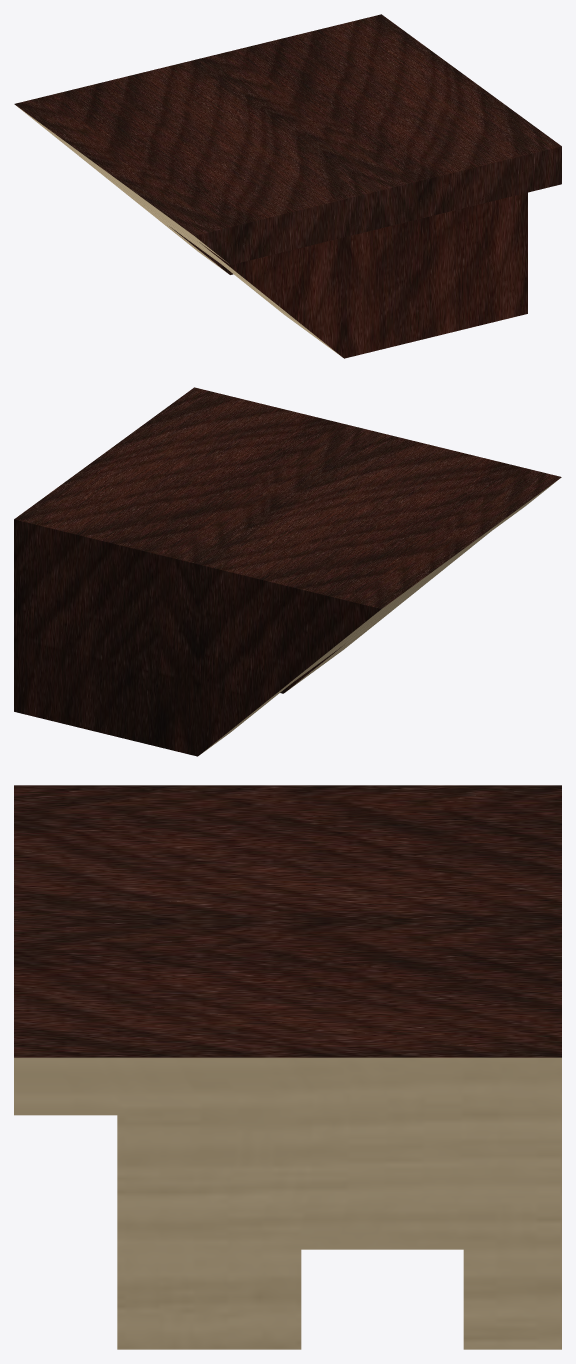
3 renders of one model, top to bottom at view 1: azimuth 30°, elevation 25°; view 2: azimuth 150°, elevation 25°; view 3: azimuth 270°, elevation 25°, orthographic. The views are drawn at different scales.
Parts seen in each view (by area): view 1: middle, first; view 2: middle, first; view 3: middle, first.
Boxes of the visible parts, x1=… form: middle: x1=198, y1=14, x2=561, y2=358; first: x1=14, y1=59, x2=378, y2=358; middle: x1=14, y1=387, x2=377, y2=756; first: x1=197, y1=432, x2=561, y2=756; middle: x1=14, y1=921, x2=561, y2=1349; first: x1=14, y1=785, x2=561, y2=921.
Bounding box in the file's own units: 0.04 × 0.02 × 0.034.
Materials: 2 (2 with a texture image).
